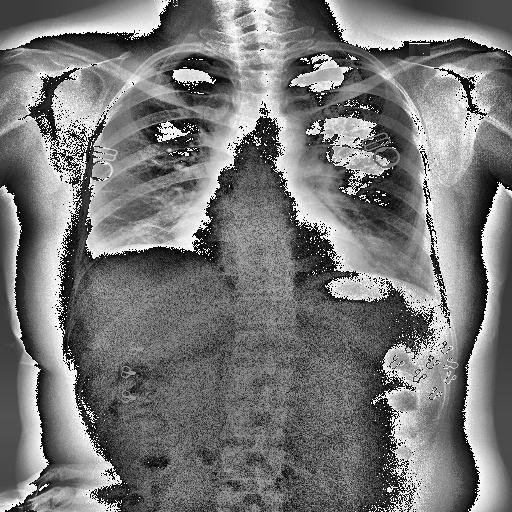13- Pulmonary fibrosis: (100, 189, 172, 233), (92, 212, 166, 232), (96, 185, 128, 195)
3- Cardiomegaly: (168, 212, 374, 276)
